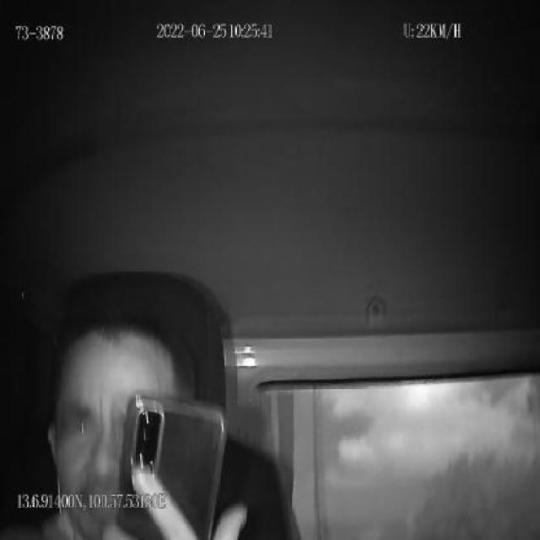phone: (112, 391, 227, 540)
